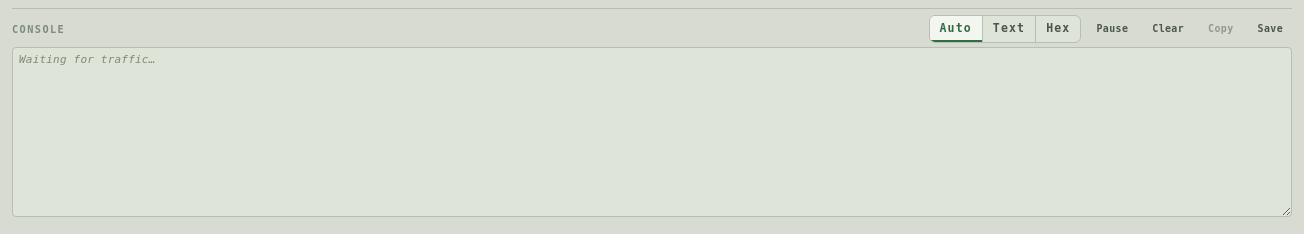
WireConsole › saves everything the server kept as a text file
Click the button "Save" at x=1270, y=29, box [1248,20,1292,38]
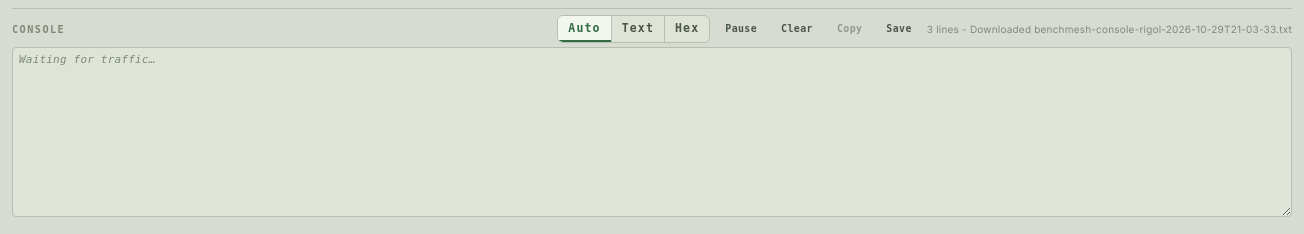
expect the message reads "3 lines - Downloaded benchmesh-console-rigol-2026-10-29T21-03-33.txt": met, box [927,23,1292,35]
